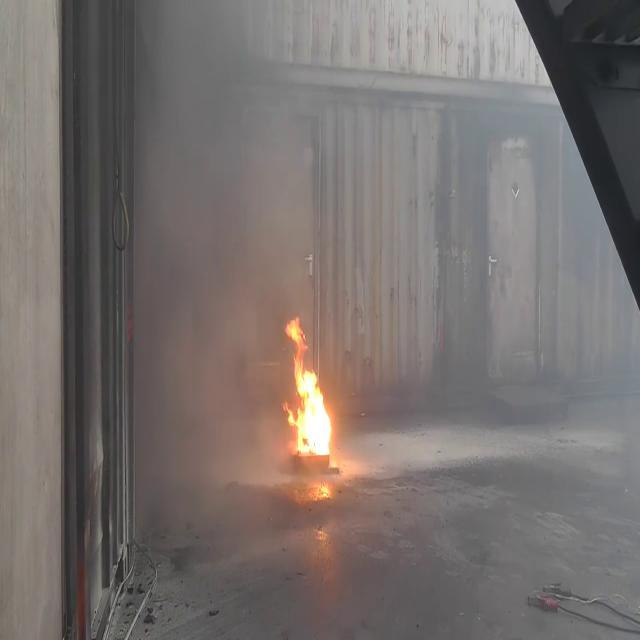Fire: (280, 308, 336, 462)
Smoke: (122, 7, 352, 328)
